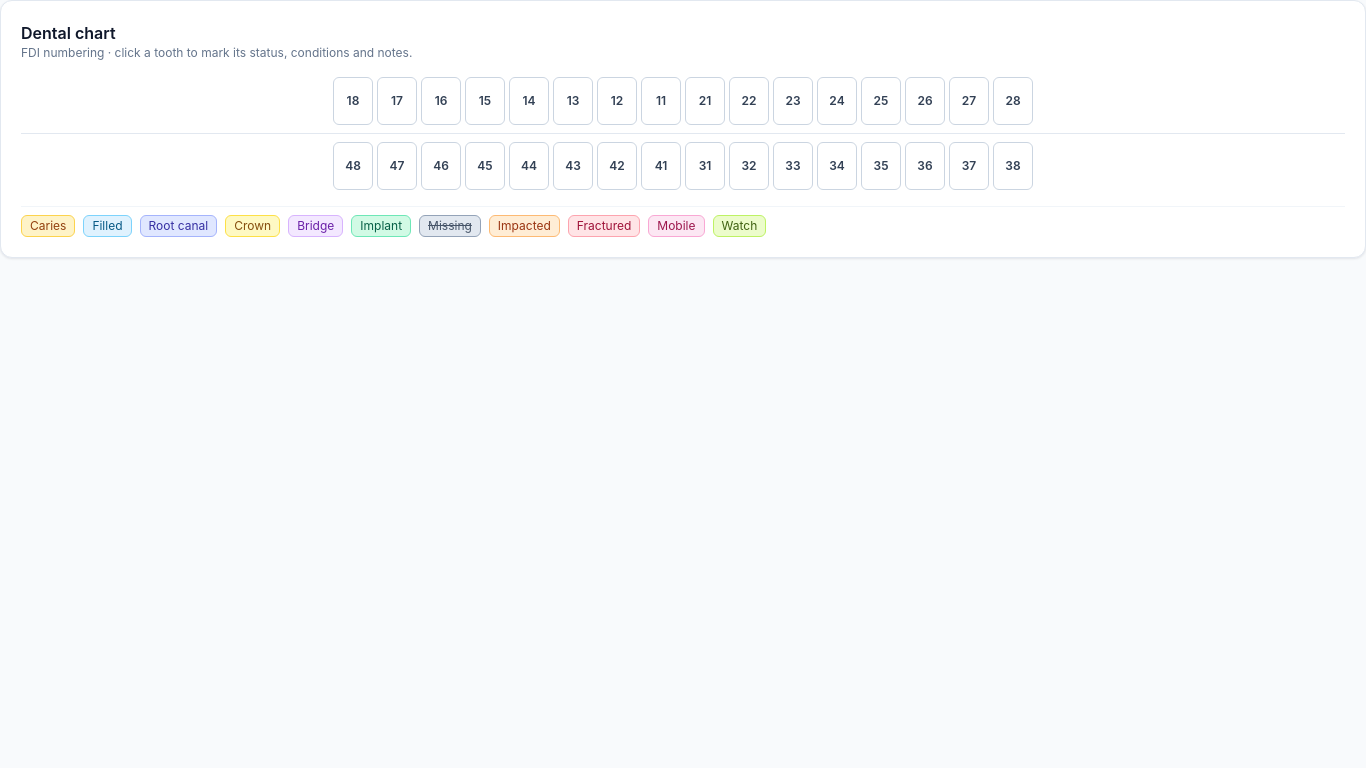
Scenario: DentalChart › cancels the tooth modal via the Cancel button
Click the button "18" at (353, 101), box [333,77,373,125]
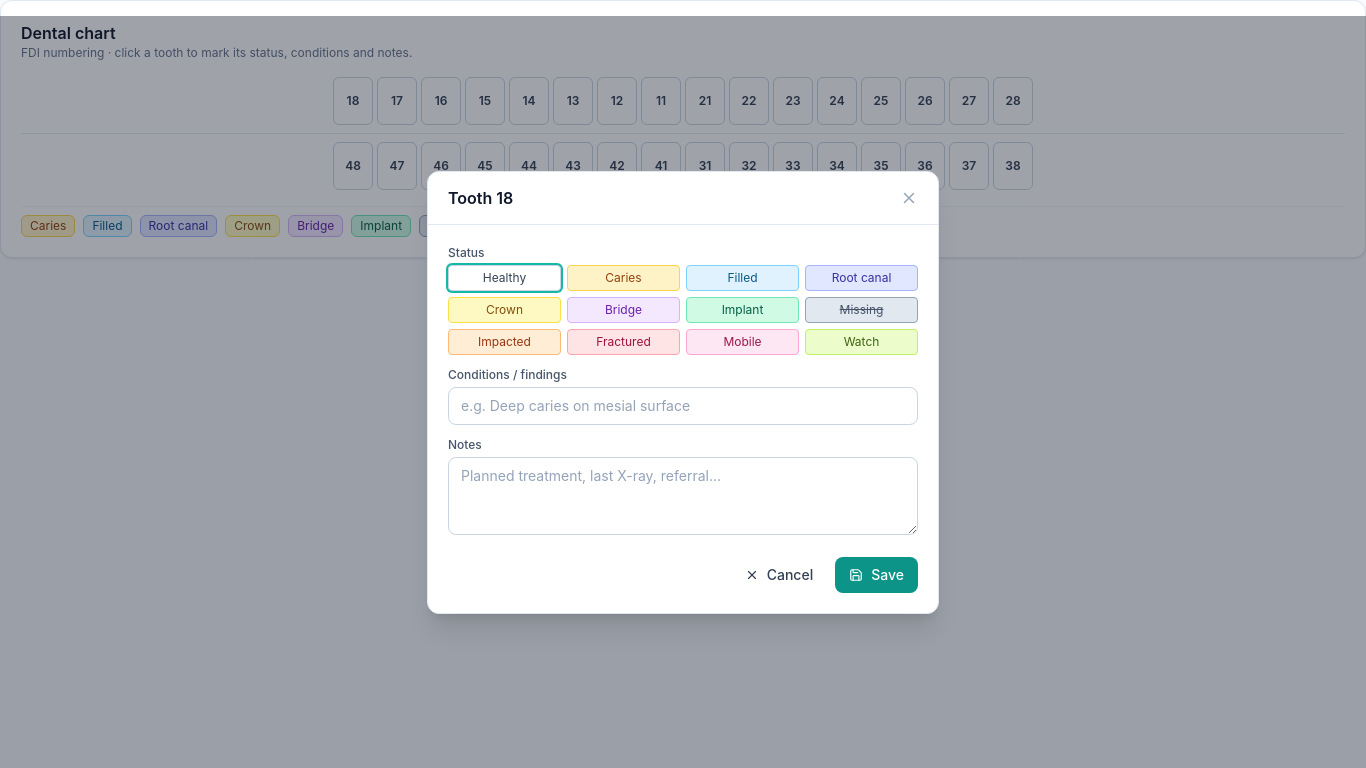
Expected: the heading "Tooth 18" is shown, [448,186,513,210]
Click the button "Cancel" at (779, 574), box [731,556,827,592]
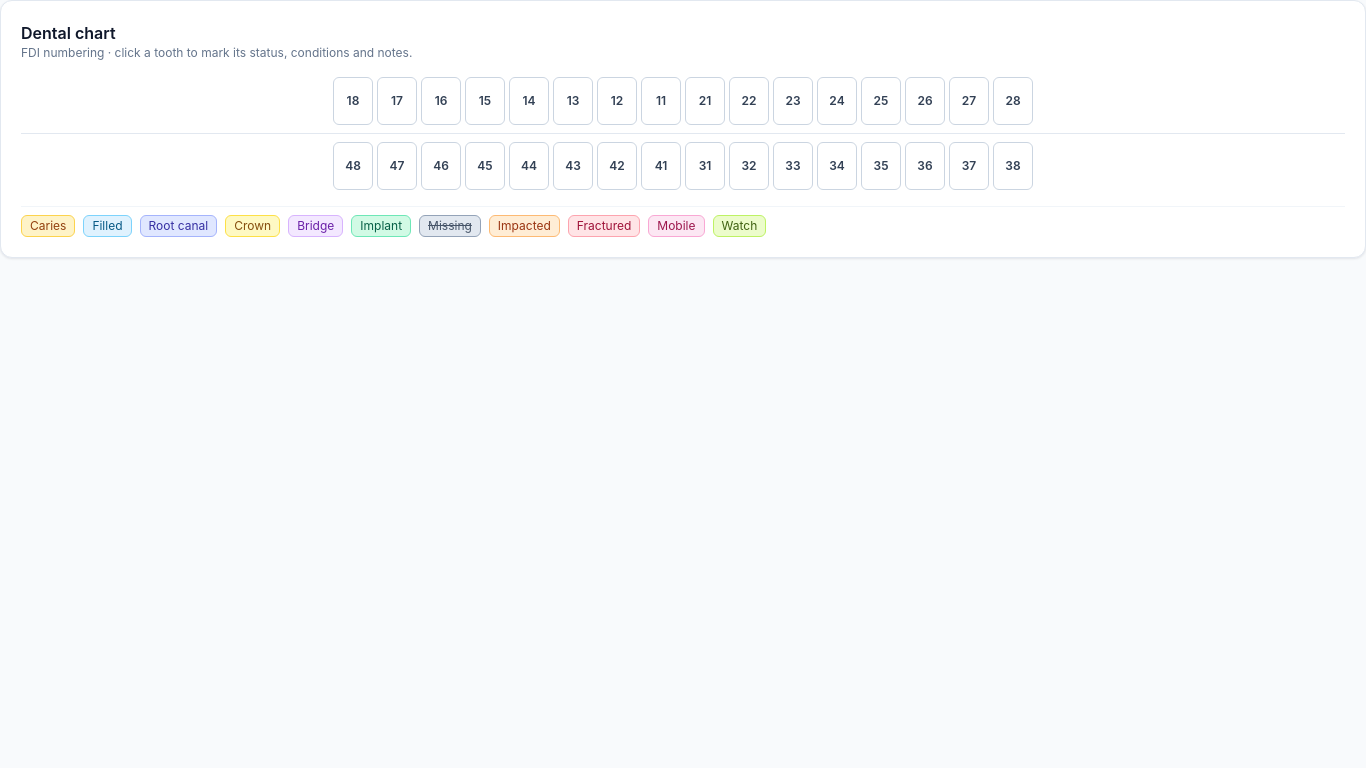
Expected: the heading "Tooth 18" is gone
